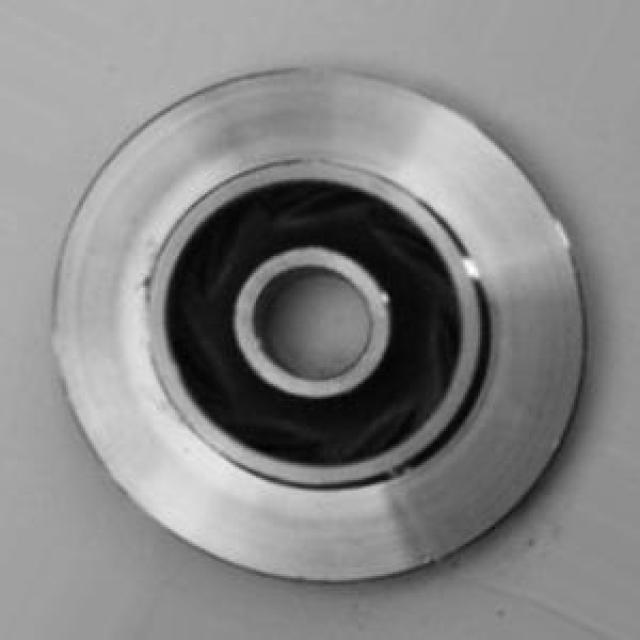Defect: (124, 268, 169, 302)
